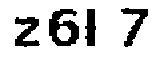6: (47, 7, 81, 47)
7: (115, 5, 153, 49)
l: (82, 7, 103, 50)
z: (12, 13, 41, 49)
